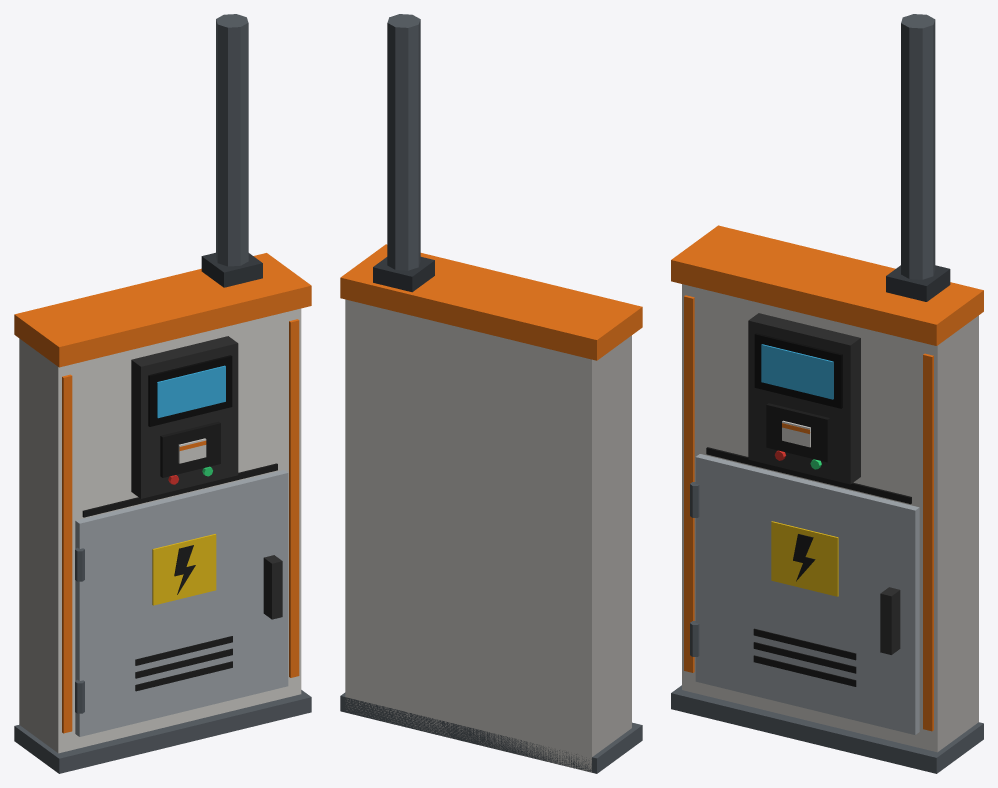
Rendered from SM_ControlPanel.fbx.
3 views of the same model, side by side, from view 1: azimuth 30°, elevation 25°; view 2: azimuth 150°, elevation 25°; view 3: azimuth 330°, elevation 25° (orthographic). The views are drawn at different scales.
Parts seen in each view (by area): view 1: Cover, Housing_Trim, Housing, CardReader_Body, CardReader_Screen, Cover_Symbol; view 2: Housing, Housing_Trim; view 3: Cover, Housing_Trim, Housing, CardReader_Body, CardReader_Screen, Cover_Symbol.
Boxes of the visible parts, <box> form: Cover: <box>75,470,288,736</box>; Housing_Trim: <box>14,14,311,773</box>; Housing: <box>19,308,301,753</box>; CardReader_Body: <box>131,336,238,498</box>; CardReader_Screen: <box>157,365,225,418</box>; Cover_Symbol: <box>174,545,195,594</box>; Housing: <box>345,299,631,772</box>; Housing_Trim: <box>340,14,642,773</box>; Cover: <box>690,454,919,734</box>; Housing_Trim: <box>671,14,983,773</box>; Housing: <box>682,284,978,752</box>; CardReader_Body: <box>748,313,860,484</box>; CardReader_Screen: <box>761,344,833,399</box>; Cover_Symbol: <box>793,534,815,581</box>.
Bounding box in the file's own units: 0.52 × 1.34 × 0.187.
Materials: 2 (2 with a texture image).
